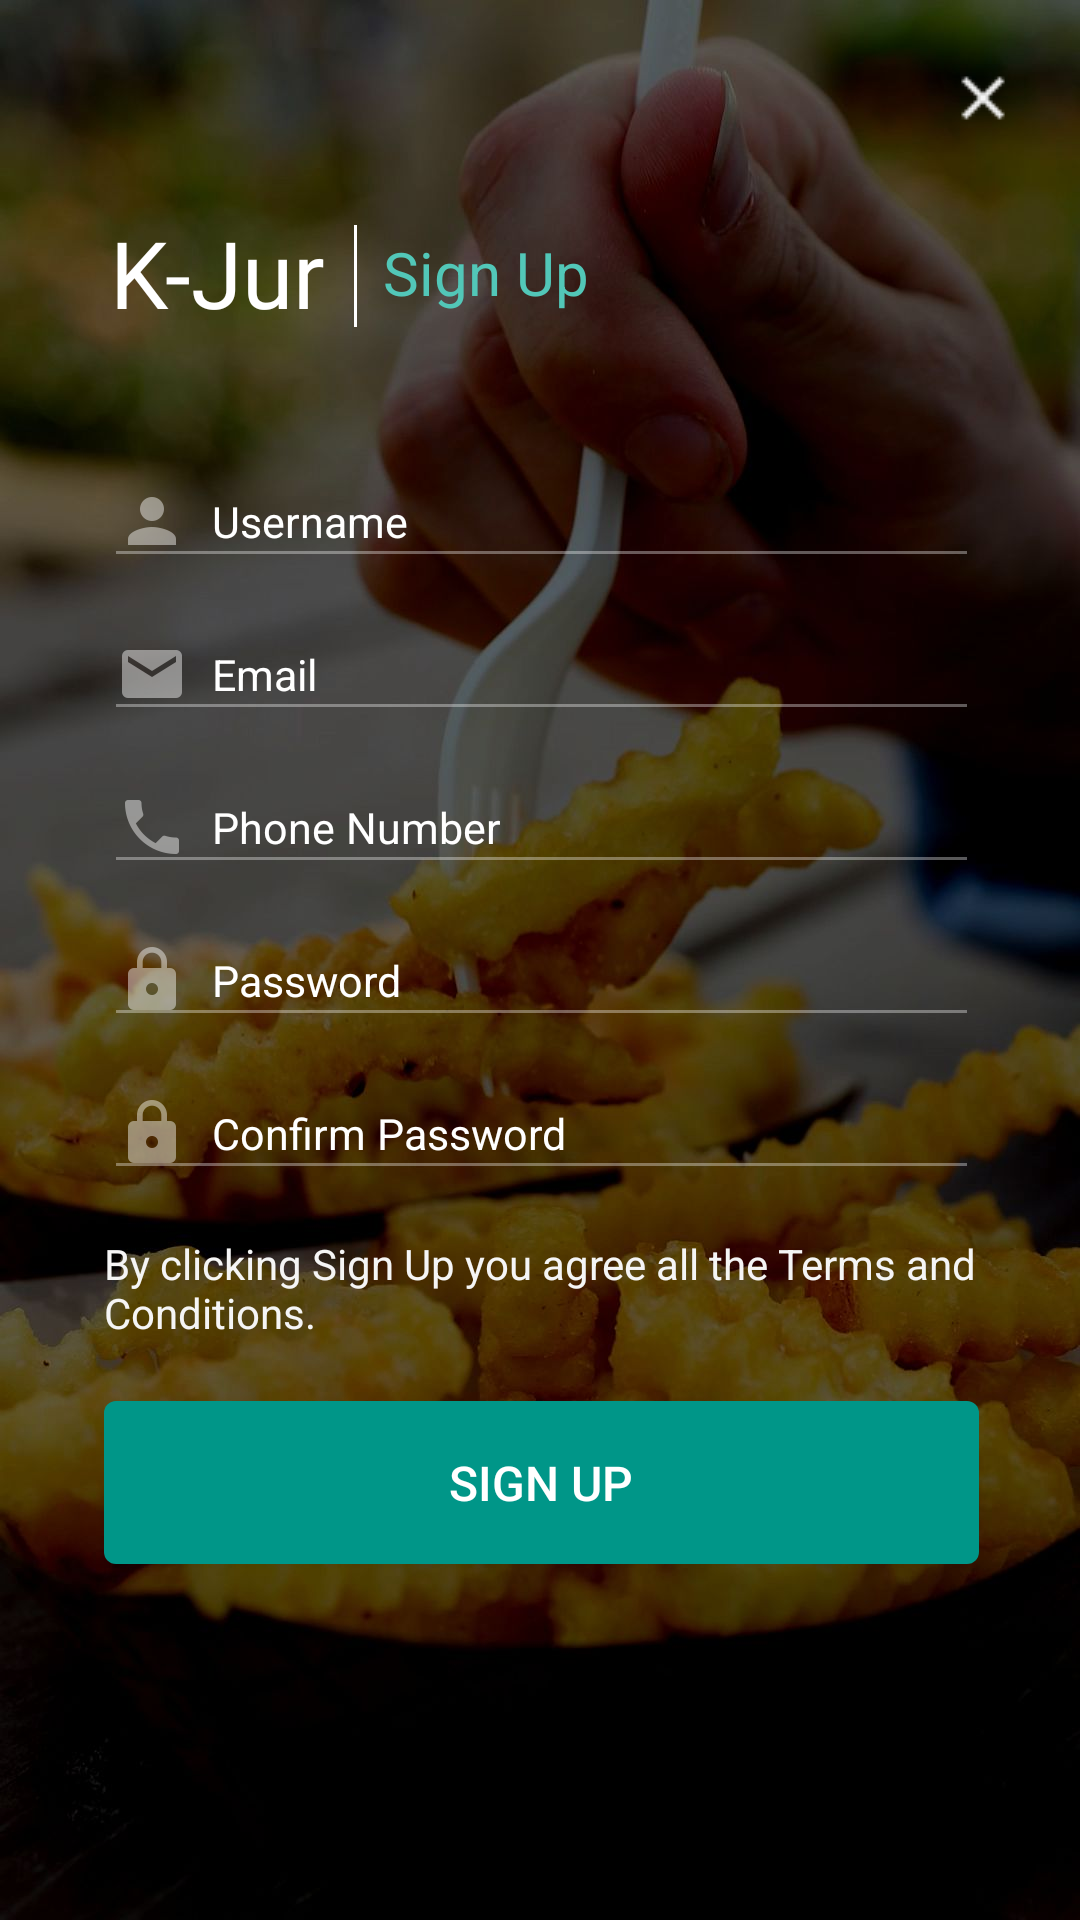

Screen size 1080w x 1920h. Icon name, then its center in pixels as (x=x, y=y):
close: (x=982, y=97)
